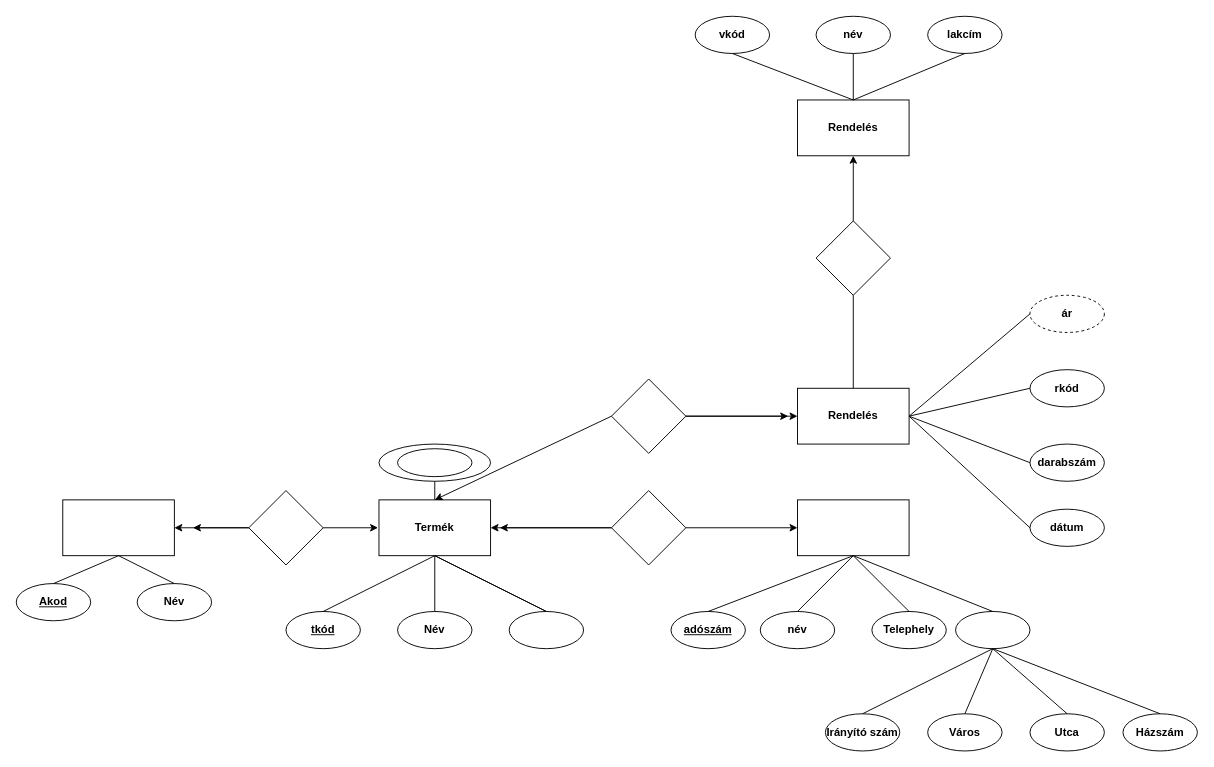
Some shapes in this 1214 by 767 pixel diagram are drawn without their labels. The shapes that lost their labels are listed below. From the top down, each one's centre as x and y in pixels, then its label:
At [852,257]: "V-R".
At [648,415]: "T-R".
At [434,462]: "egység-db".
At [118,527]: "Alkatrész".
At [285,527]: "A-T".
At [648,527]: "T-GY".
At [853,527]: "Gyártó".
At [546,630]: "ear".
At [992,630]: "Posta cím".
